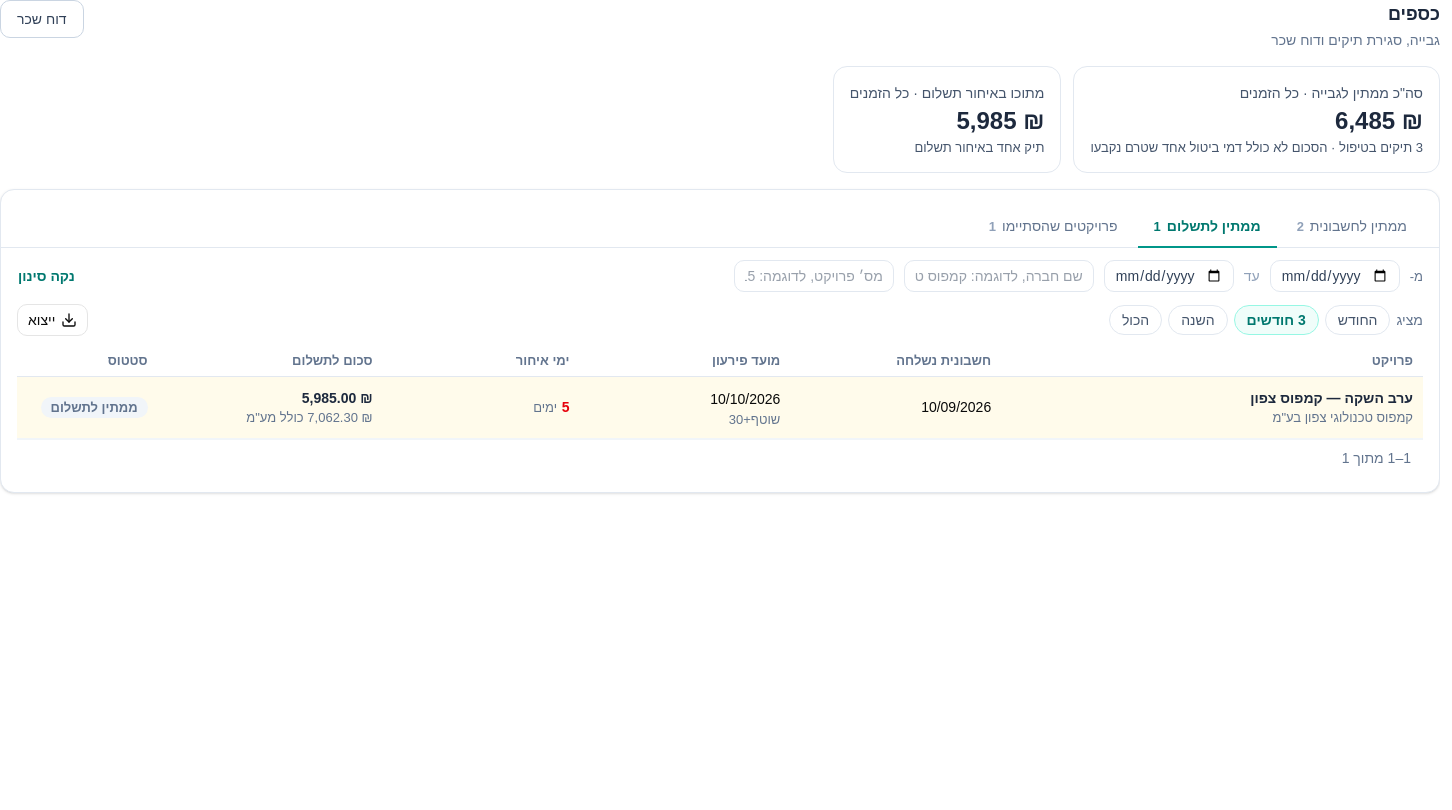
S1 — לשונית "ממתין לחשבונית" (#12 · #14) › #12 — ציון-משוב 2 מייצר שורת-בירור-טלפוני ומסמן את השורה בענבר
Expected: the table with test id "finance-table" is shown, [17,346,1423,439]
Click the tab with test id "finance-tab-awaiting_invoice". click: (1352, 227)
box: [1281,206,1423,248]
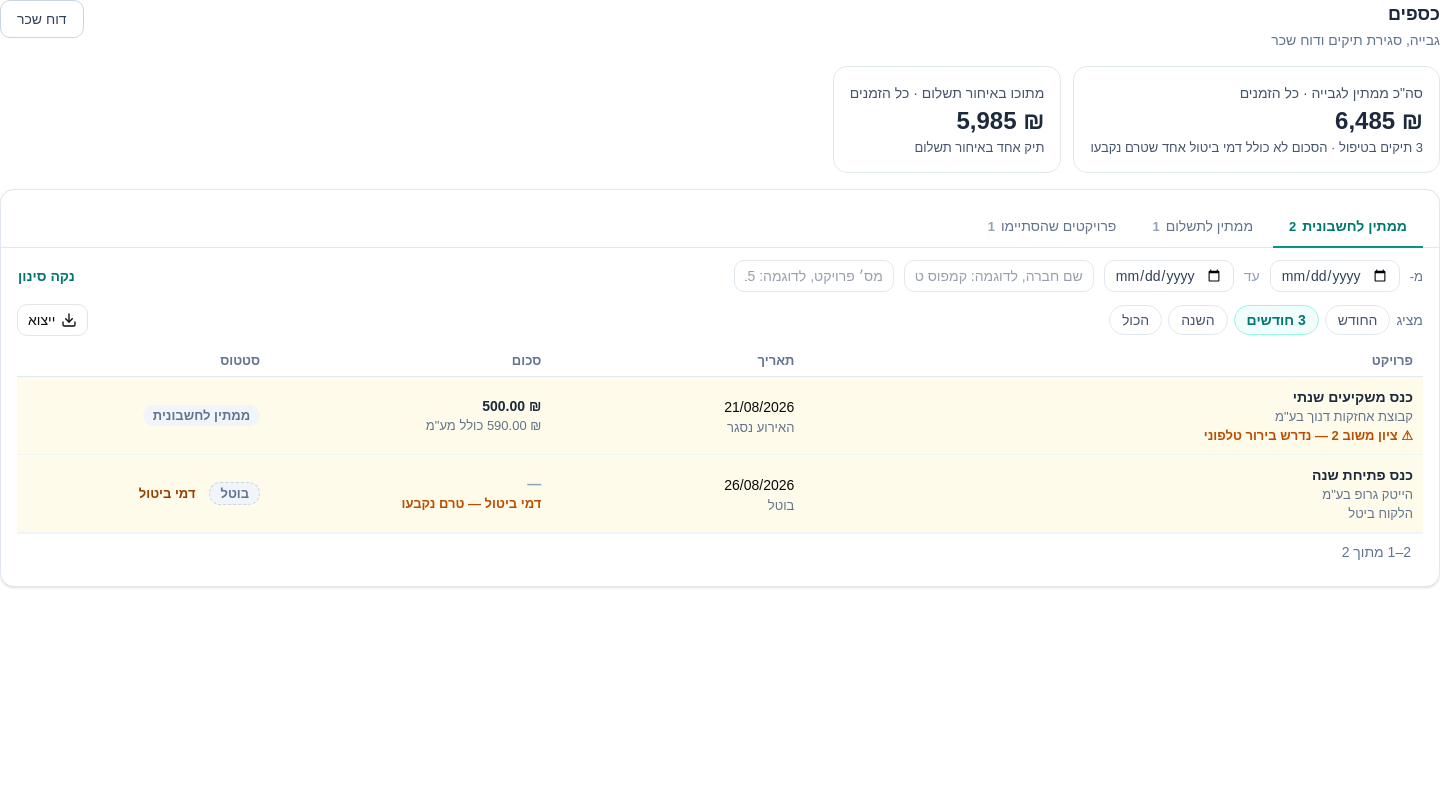
Now the row with test id "finance-row-12" shows "כנס משקיעים שנתי", box [1293,389,1413,405]
Now the row with test id "finance-row-12" shows "נדרש בירור טלפוני", box [1204,428,1332,443]
Now the row with test id "finance-row-12" shows "21/08/2026", box [724,399,794,415]
